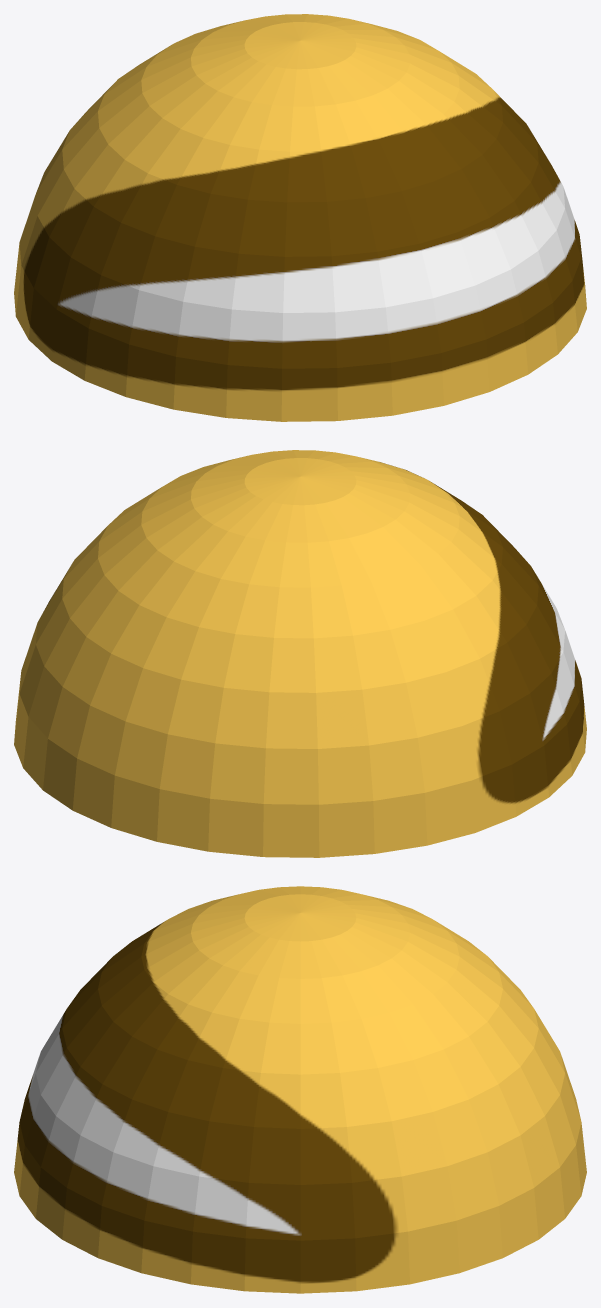
File: hemisphere 1.obj
The picture shows the model from 3 angles, top to bottom: view 1: azimuth 30°, elevation 25°; view 2: azimuth 150°, elevation 25°; view 3: azimuth 270°, elevation 25°; orthographic projection.
Parts seen in each view (by area): view 1: Sphere; view 2: Sphere; view 3: Sphere.
Boxes of the visible parts, <box> form: Sphere: <box>14,14,586,421</box>; Sphere: <box>14,450,586,857</box>; Sphere: <box>14,886,586,1293</box>.
Bounding box in the file's own units: 2 × 1 × 2.
